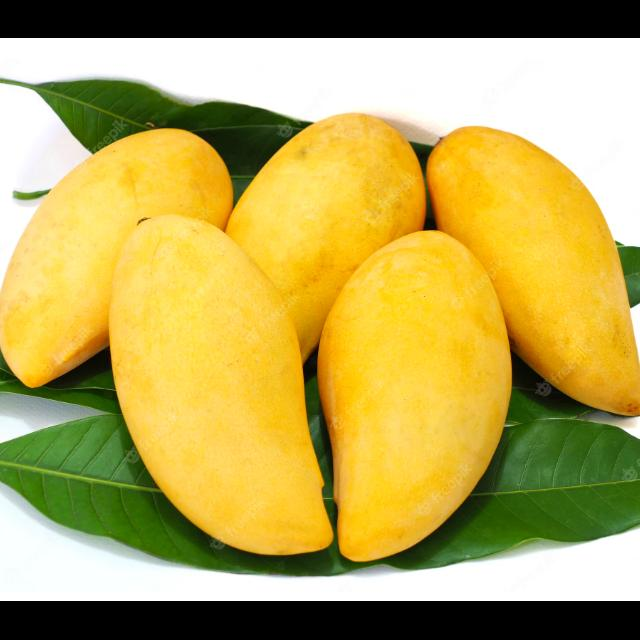mango: (108, 214, 334, 554), (316, 226, 512, 565), (425, 126, 640, 417)
